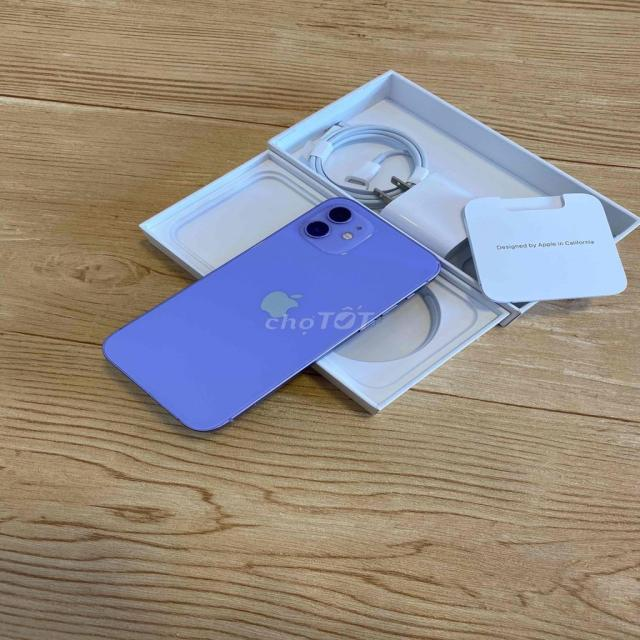gen_12_13: (95, 194, 447, 440)
